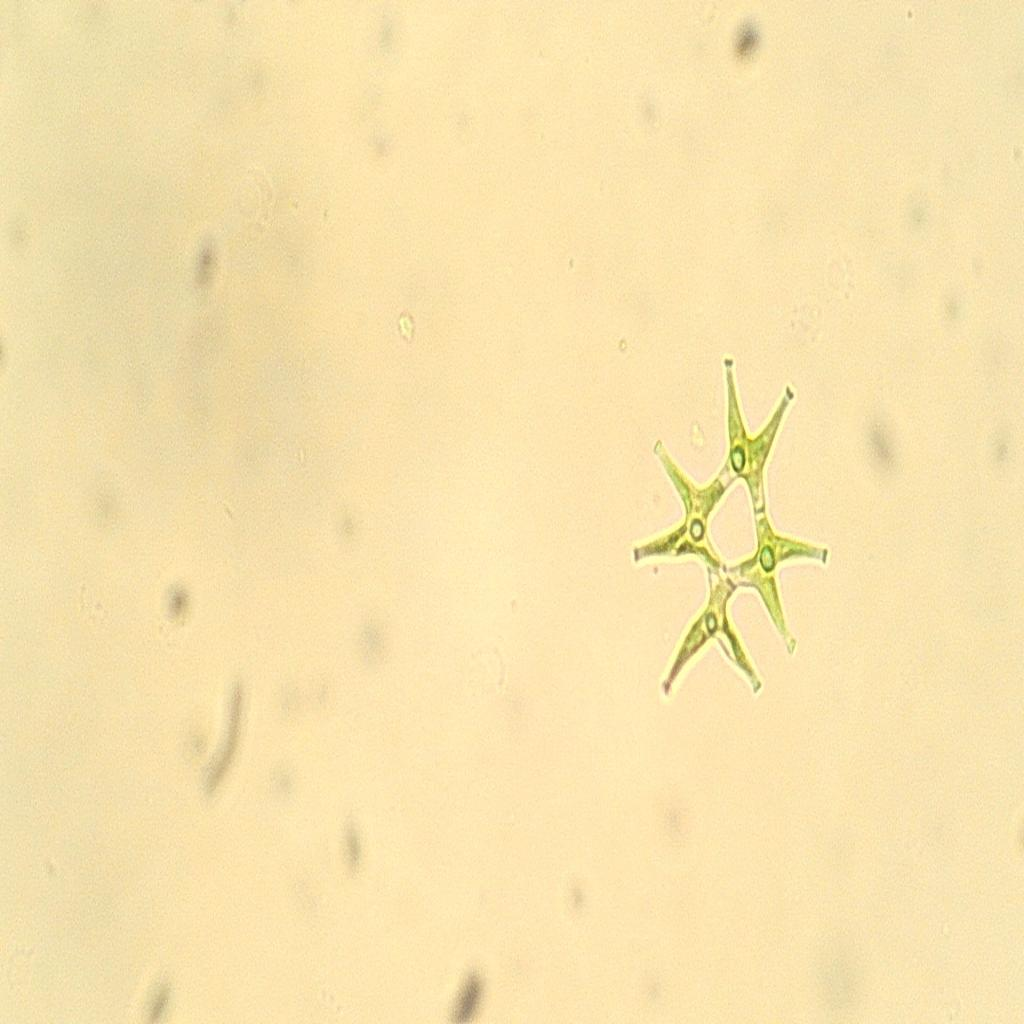Pediastrum_CT: (628, 342, 828, 746)
